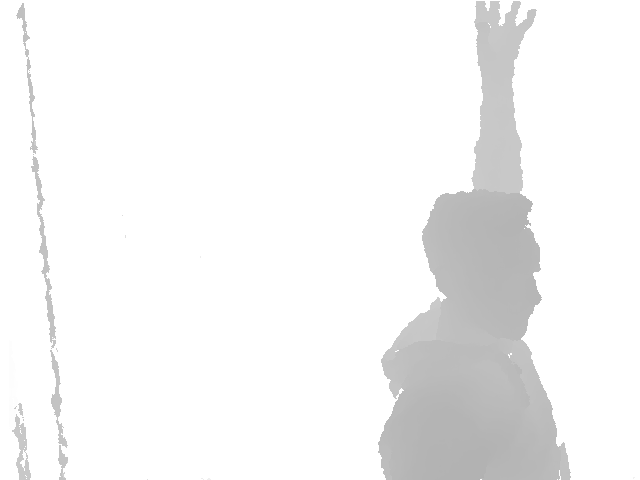hand: (474, 1, 537, 76)
head: (422, 190, 542, 342)
person: (378, 1, 572, 480)
